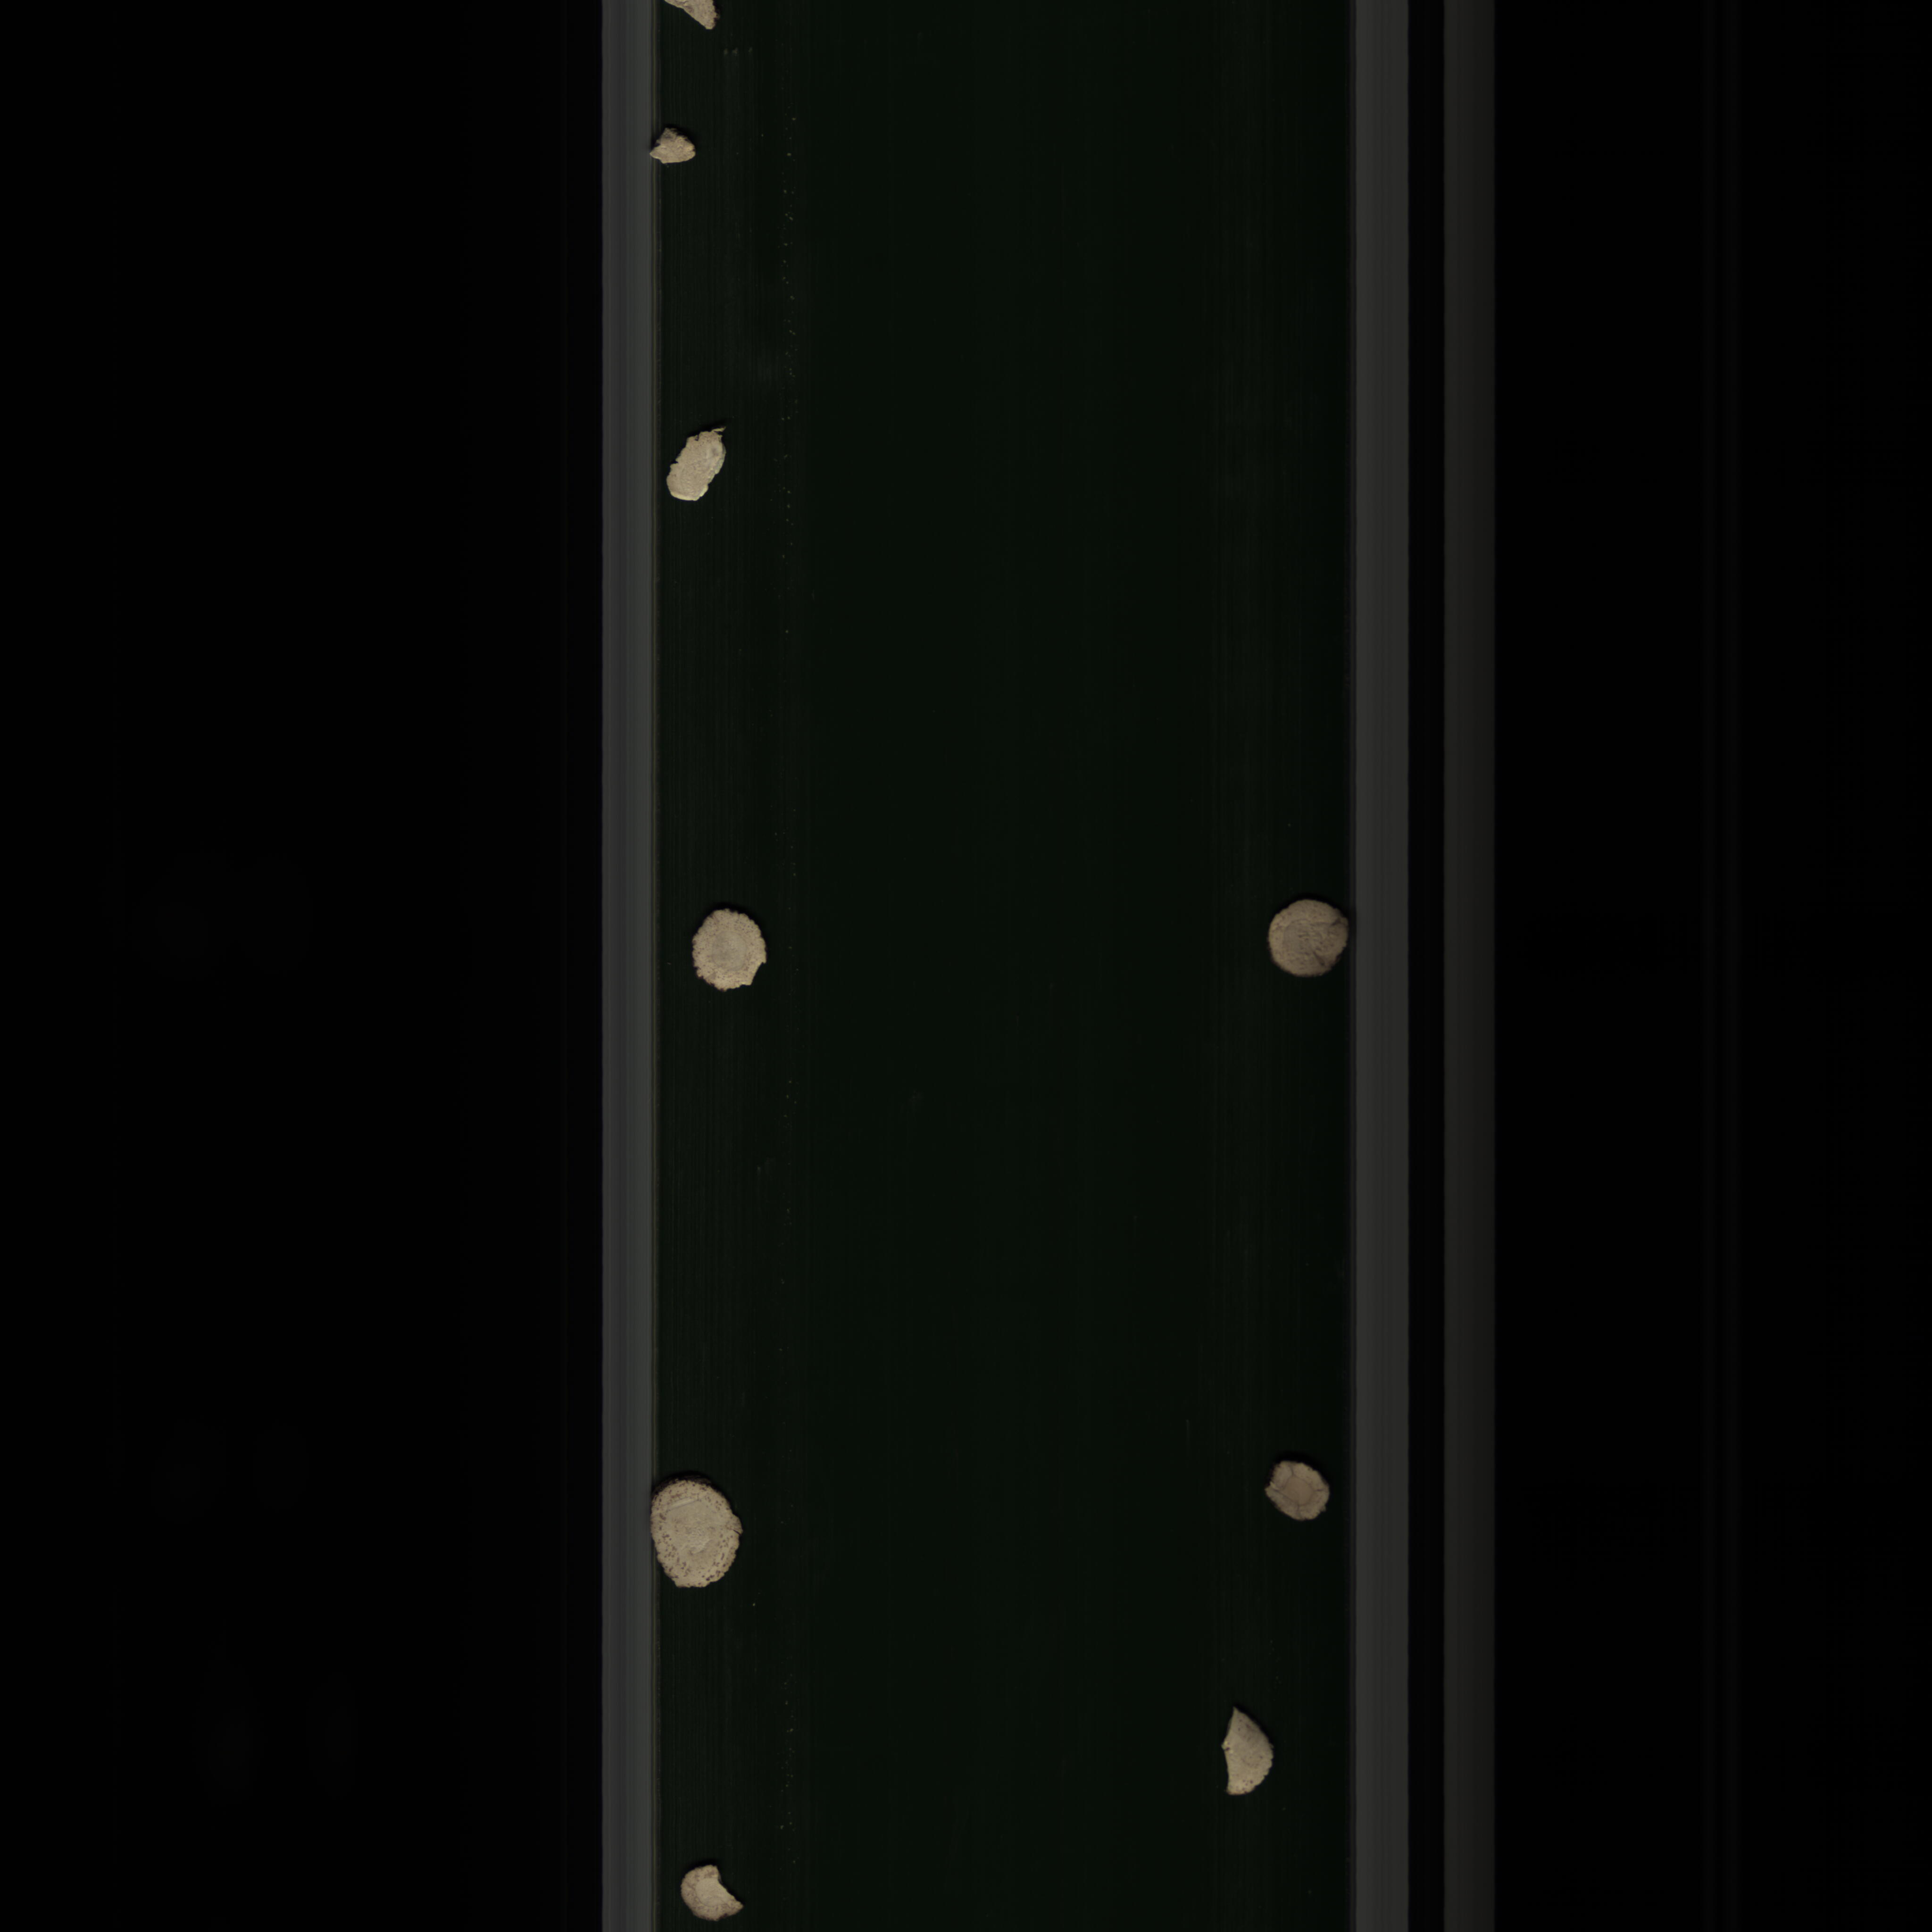bark: (637, 120, 711, 173)
debris: (663, 419, 745, 517), (1212, 1702, 1286, 1803), (669, 1858, 752, 1925)
